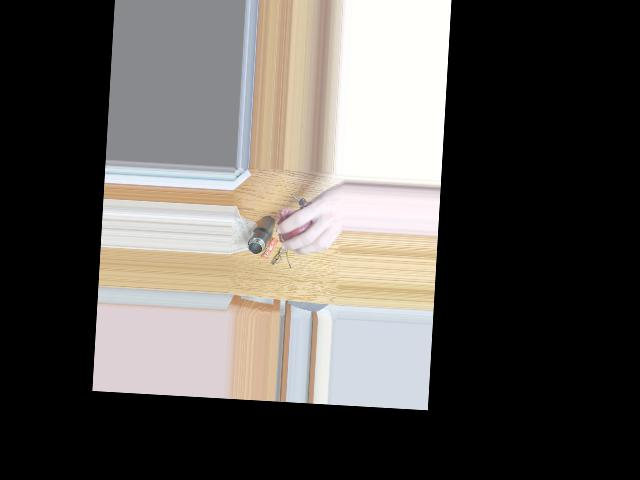onion: (284, 203, 321, 246)
